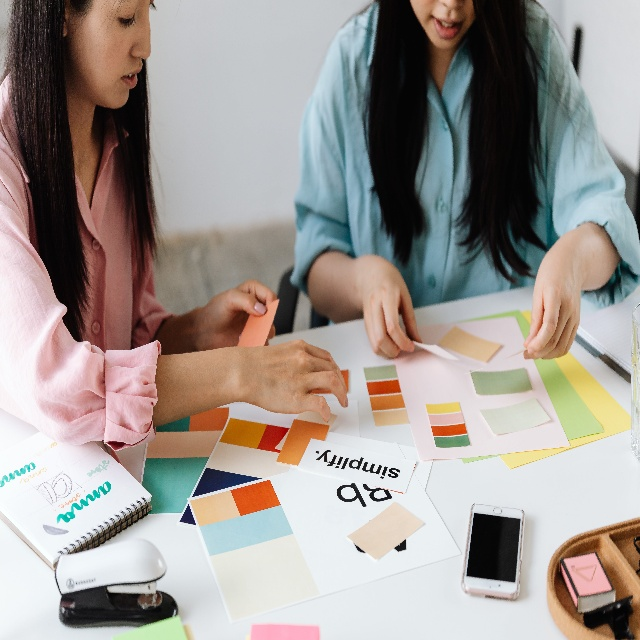Sin_guantes: (243, 336, 349, 421), (523, 239, 581, 361), (362, 256, 420, 360), (204, 279, 276, 350)
